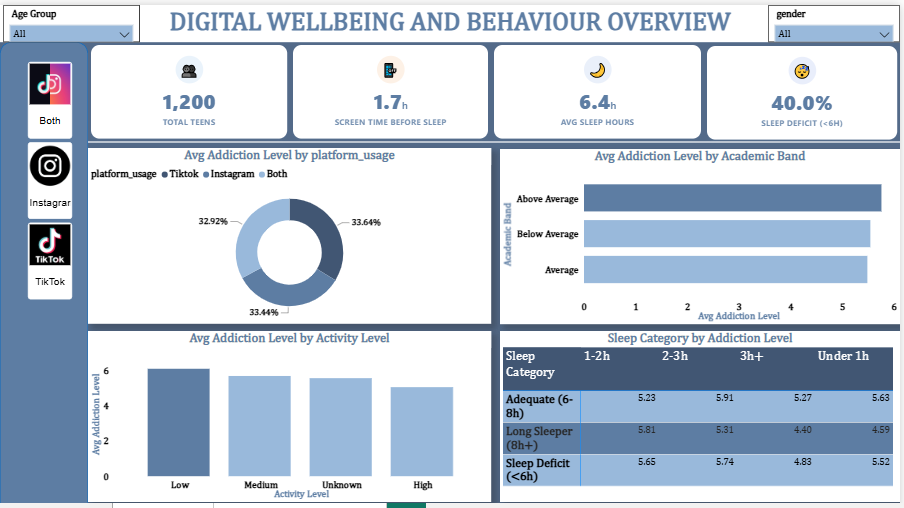

The dashboard page shown, as its layout file describes it:
{"tool":"powerbi","page":{"name":"OVERVIEW","canvas":[1500,840],"ordinal":0},"visuals":[{"type":"htmlContent443BE3AD55E043BF878BED274D3A6855","fields":{"content":["HTML.Total Teens HTML"]},"box":[146.7,61.7,336.7,178.3],"z":0},{"type":"textbox","box":[0,0,1500,61.7],"z":1000},{"type":"htmlContent443BE3AD55E043BF878BED274D3A6855","fields":{"content":["HTML.Screen Before Sleep"]},"box":[483.3,61.7,335,210],"z":3000},{"type":"htmlContent443BE3AD55E043BF878BED274D3A6855","fields":{"content":["HTML.Avg Sleep"]},"box":[818.3,61.7,355,176.7],"z":4000},{"type":"htmlContent443BE3AD55E043BF878BED274D3A6855","fields":{"content":["HTML.Sleep Deficit"]},"box":[1173.3,63.3,326.7,176.7],"z":5000},{"type":"shape","box":[98.3,151.7,1401.7,153.3],"z":6000},{"type":"donutChart","fields":{"Category":["Teen_Mental_Health_Dataset.platform_usage"],"Y":["Measures Overview.Avg Addiction Level"]},"box":[146.7,238.3,671.7,293.3],"z":7000},{"type":"barChart","fields":{"Category":["Teen_Mental_Health_Dataset.Academic Band"],"Y":["Measures Overview.Avg Addiction Level"]},"box":[833.3,240,666.7,291.7],"z":8000},{"type":"clusteredColumnChart","fields":{"Category":["Teen_Mental_Health_Dataset.Activity Level"],"Y":["Measures Overview.Avg Addiction Level"]},"box":[146.7,543.3,671.7,285],"z":9000},{"type":"pivotTable","title":"Sleep Category by Addiction  Level","fields":{"Rows":["Teen_Mental_Health_Dataset.Sleep Category"],"Columns":["Teen_Mental_Health_Dataset.Screen Time Band"],"Values":["Measures Overview.Avg Addiction Level"]},"box":[833.3,543.3,666.7,285],"z":10000},{"type":"shape","box":[0,61.7,146.7,790],"z":11000},{"type":"ChicletSlicer1448559807354","fields":{"Category":["category.platform_usage"],"Image":["category.Image URL"]},"box":[38.3,86.7,90,423.3],"z":12000},{"type":"slicer","fields":{"Values":["Teen_Mental_Health_Dataset.gender"]},"box":[1280,0,220,61.7],"z":13000},{"type":"slicer","fields":{"Values":["Teen_Mental_Health_Dataset.Age Group"]},"box":[5,0,228.3,61.7],"z":14000}]}

Visuals, with their boxes in screenshot pixels (x1, y1, x2, y2), scaled from the page's 1500x840 canvas onto the 904x508 screenshot:
htmlContent443BE3AD55E043BF878BED274D3A6855 - HTML.Total Teens HTML: (x1=88, y1=37, x2=291, y2=145)
textbox: (x1=0, y1=0, x2=903, y2=37)
htmlContent443BE3AD55E043BF878BED274D3A6855 - HTML.Screen Before Sleep: (x1=291, y1=37, x2=493, y2=164)
htmlContent443BE3AD55E043BF878BED274D3A6855 - HTML.Avg Sleep: (x1=493, y1=37, x2=707, y2=144)
htmlContent443BE3AD55E043BF878BED274D3A6855 - HTML.Sleep Deficit: (x1=707, y1=38, x2=903, y2=145)
shape: (x1=59, y1=92, x2=903, y2=184)
donutChart - Teen_Mental_Health_Dataset.platform_usage x Measures Overview.Avg Addiction Level: (x1=88, y1=144, x2=493, y2=321)
barChart - Teen_Mental_Health_Dataset.Academic Band x Measures Overview.Avg Addiction Level: (x1=502, y1=145, x2=903, y2=322)
clusteredColumnChart - Teen_Mental_Health_Dataset.Activity Level x Measures Overview.Avg Addiction Level: (x1=88, y1=329, x2=493, y2=501)
"Sleep Category by Addiction  Level" pivotTable: (x1=502, y1=329, x2=903, y2=501)
shape: (x1=0, y1=37, x2=88, y2=507)
ChicletSlicer1448559807354 - category.platform_usage x category.Image URL: (x1=23, y1=52, x2=77, y2=308)
slicer - Teen_Mental_Health_Dataset.gender: (x1=771, y1=0, x2=903, y2=37)
slicer - Teen_Mental_Health_Dataset.Age Group: (x1=3, y1=0, x2=141, y2=37)
